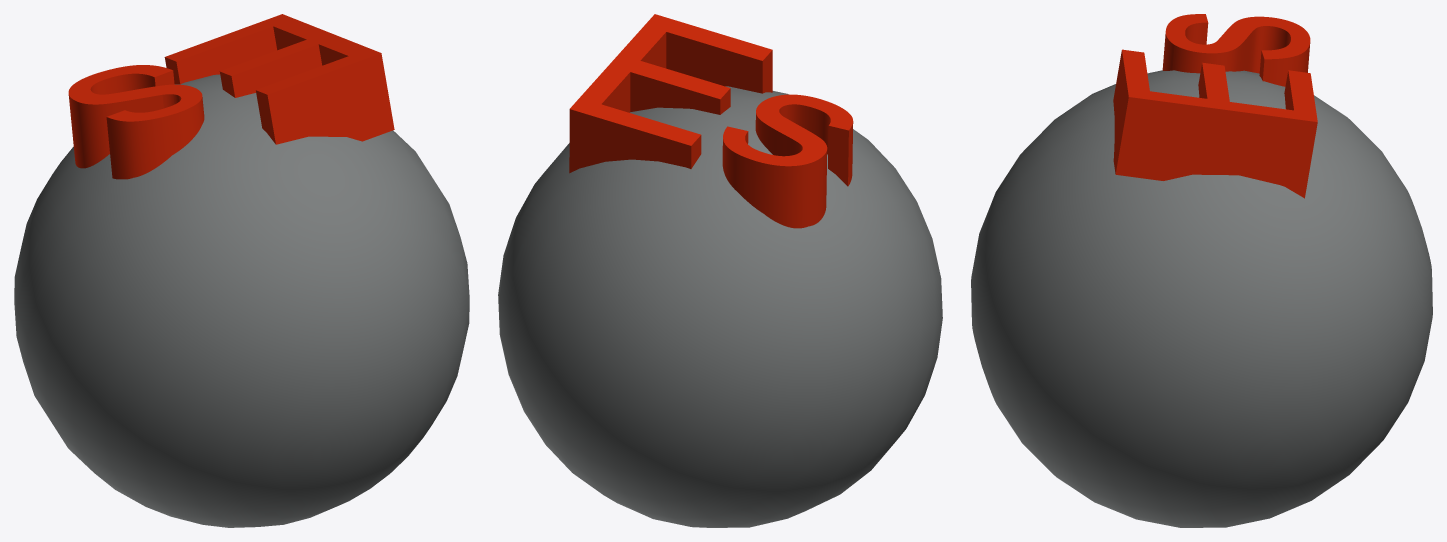
The picture shows the model from 3 angles, left to right: view 1: azimuth 30°, elevation 25°; view 2: azimuth 150°, elevation 25°; view 3: azimuth 270°, elevation 25°; orthographic projection. The views are drawn at different scales.
Visible parts, largest first — view 1: Es, Object004, Object005; view 2: Es, Object004, Object005; view 3: Es, Object004, Object005.
Part boxes in pixels (x1=…): Es: x1=14, y1=74, x2=469, y2=527; Object004: x1=164, y1=14, x2=394, y2=144; Object005: x1=68, y1=65, x2=204, y2=179; Es: x1=498, y1=86, x2=942, y2=527; Object004: x1=569, y1=14, x2=772, y2=173; Object005: x1=722, y1=94, x2=853, y2=228; Es: x1=971, y1=70, x2=1432, y2=527; Object004: x1=1113, y1=49, x2=1317, y2=198; Object005: x1=1162, y1=14, x2=1310, y2=86.
Bounding box in the file's own units: 38.61 × 42.45 × 38.63.
